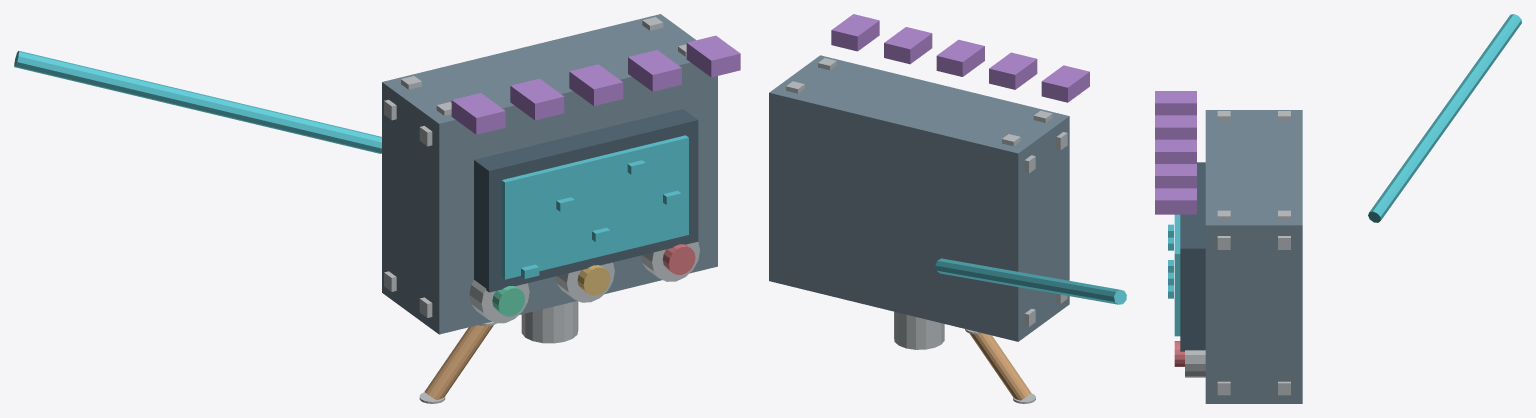
File: 45_L75_WaferSurfacePotentialSensor.glb
3 views of the same model, side by side, from view 1: azimuth 30°, elevation 25°; view 2: azimuth 150°, elevation 25°; view 3: azimuth 270°, elevation 25° (orthographic). The views are drawn at different scales.
Parts seen in each view (by area): view 1: WaferSurfacePotentialSensor_Node_0000, WaferSurfacePotentialSensor_Node_0010, WaferSurfacePotentialSensor_Node_0009, WaferSurfacePotentialSensor_Node_0031, WaferSurfacePotentialSensor_Node_0022, WaferSurfacePotentialSensor_Node_0023, WaferSurfacePotentialSensor_Node_0027, WaferSurfacePotentialSensor_Node_0030, WaferSurfacePotentialSensor_Node_0026, WaferSurfacePotentialSensor_Node_0028, WaferSurfacePotentialSensor_Node_0029, WaferSurfacePotentialSensor_Node_0016 (+5 smaller); view 2: WaferSurfacePotentialSensor_Node_0000, WaferSurfacePotentialSensor_Node_0031, WaferSurfacePotentialSensor_Node_0022, WaferSurfacePotentialSensor_Node_0023, WaferSurfacePotentialSensor_Node_0029, WaferSurfacePotentialSensor_Node_0027, WaferSurfacePotentialSensor_Node_0028, WaferSurfacePotentialSensor_Node_0026, WaferSurfacePotentialSensor_Node_0030; view 3: WaferSurfacePotentialSensor_Node_0000, WaferSurfacePotentialSensor_Node_0009, WaferSurfacePotentialSensor_Node_0031, WaferSurfacePotentialSensor_Node_0030, WaferSurfacePotentialSensor_Node_0026, WaferSurfacePotentialSensor_Node_0027, WaferSurfacePotentialSensor_Node_0028, WaferSurfacePotentialSensor_Node_0029, WaferSurfacePotentialSensor_Node_0010, WaferSurfacePotentialSensor_Node_0020.
Part boxes in pixels (box(x1,y1,x2,y2)): WaferSurfacePotentialSensor_Node_0000: box(382, 14, 717, 334); WaferSurfacePotentialSensor_Node_0010: box(501, 135, 688, 279); WaferSurfacePotentialSensor_Node_0009: box(474, 109, 698, 292); WaferSurfacePotentialSensor_Node_0031: box(14, 50, 381, 153); WaferSurfacePotentialSensor_Node_0022: box(521, 301, 578, 343); WaferSurfacePotentialSensor_Node_0023: box(424, 325, 493, 399); WaferSurfacePotentialSensor_Node_0027: box(510, 78, 564, 120); WaferSurfacePotentialSensor_Node_0030: box(686, 35, 740, 77); WaferSurfacePotentialSensor_Node_0026: box(451, 93, 505, 134); WaferSurfacePotentialSensor_Node_0028: box(569, 64, 623, 105); WaferSurfacePotentialSensor_Node_0029: box(628, 50, 681, 91); WaferSurfacePotentialSensor_Node_0016: box(469, 280, 529, 323); WaferSurfacePotentialSensor_Node_0000: box(769, 55, 1069, 341); WaferSurfacePotentialSensor_Node_0031: box(935, 258, 1126, 304); WaferSurfacePotentialSensor_Node_0022: box(894, 311, 944, 349); WaferSurfacePotentialSensor_Node_0023: box(969, 333, 1031, 400); WaferSurfacePotentialSensor_Node_0029: box(884, 27, 932, 64); WaferSurfacePotentialSensor_Node_0027: box(989, 52, 1037, 89); WaferSurfacePotentialSensor_Node_0028: box(936, 39, 984, 76); WaferSurfacePotentialSensor_Node_0026: box(1041, 65, 1089, 102); WaferSurfacePotentialSensor_Node_0030: box(831, 14, 879, 51); WaferSurfacePotentialSensor_Node_0000: box(1205, 110, 1302, 403); WaferSurfacePotentialSensor_Node_0009: box(1180, 162, 1205, 351); WaferSurfacePotentialSensor_Node_0031: box(1368, 14, 1521, 222); WaferSurfacePotentialSensor_Node_0030: box(1155, 188, 1196, 214); WaferSurfacePotentialSensor_Node_0026: box(1155, 91, 1196, 115); WaferSurfacePotentialSensor_Node_0027: box(1155, 115, 1196, 139); WaferSurfacePotentialSensor_Node_0028: box(1155, 139, 1196, 163); WaferSurfacePotentialSensor_Node_0029: box(1155, 164, 1196, 188); WaferSurfacePotentialSensor_Node_0010: box(1174, 214, 1180, 336); WaferSurfacePotentialSensor_Node_0020: box(1185, 350, 1205, 377).
Size of the model in its own units: 0.9872 by 0.5934 by 0.7021.
